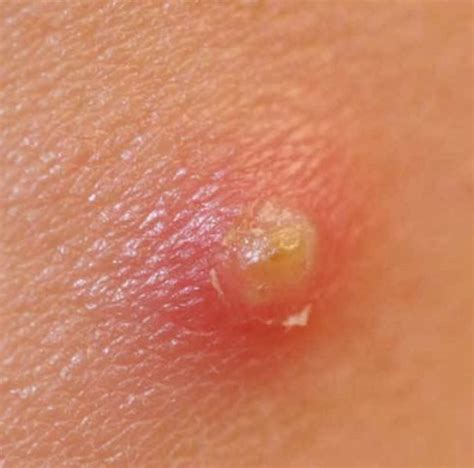Carbuncle: (183, 189, 343, 337)
